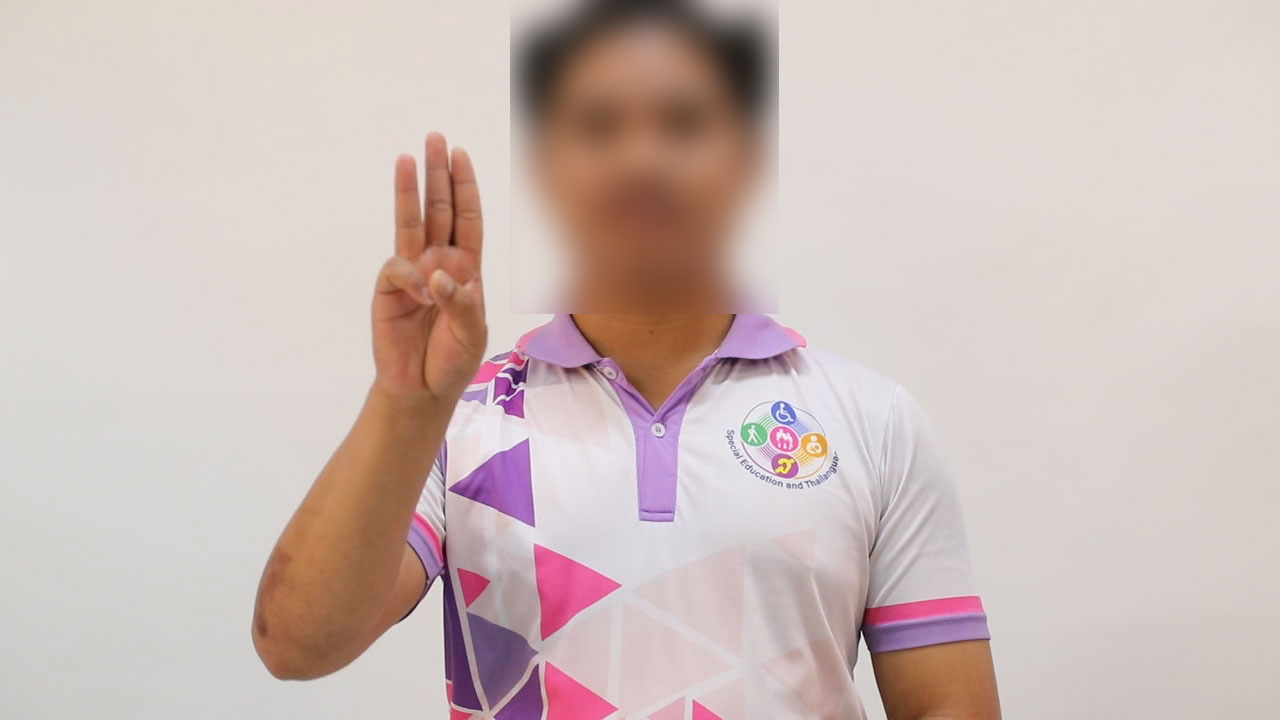wor: (357, 125, 498, 431)
